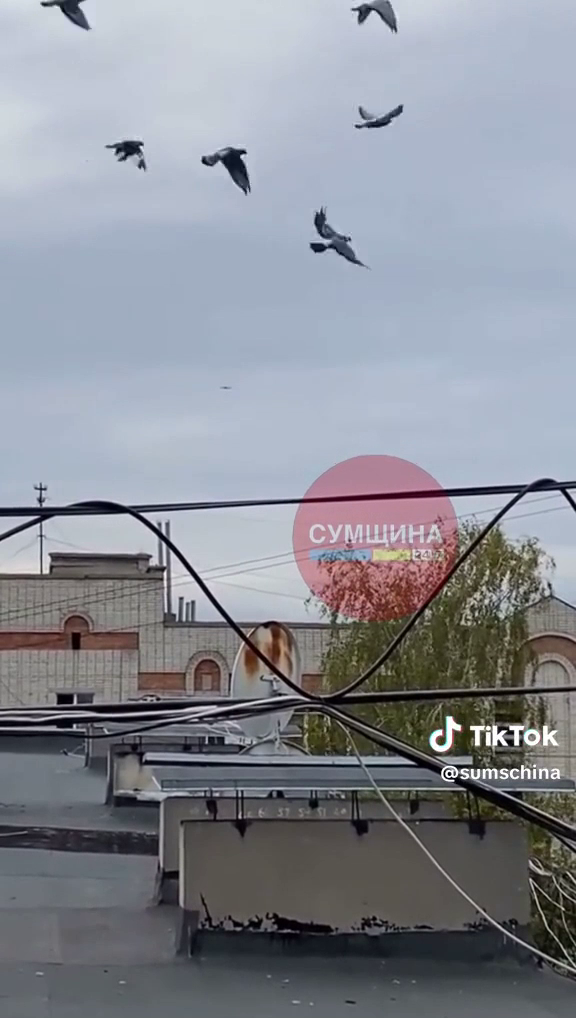not_drone: (300, 200, 380, 276), (198, 135, 260, 203), (344, 0, 414, 37), (345, 99, 414, 134), (98, 131, 152, 175)
